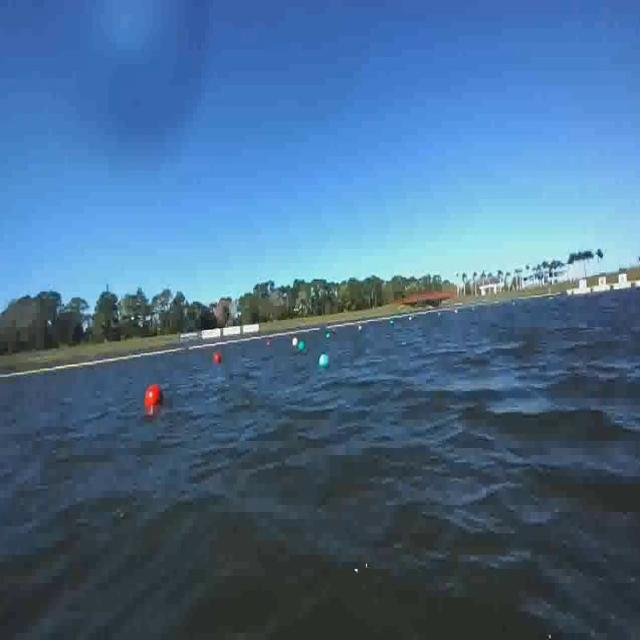green-buoy: (321, 353, 333, 369), (297, 342, 305, 352)
red-buoy: (146, 382, 164, 405), (215, 352, 222, 364)
